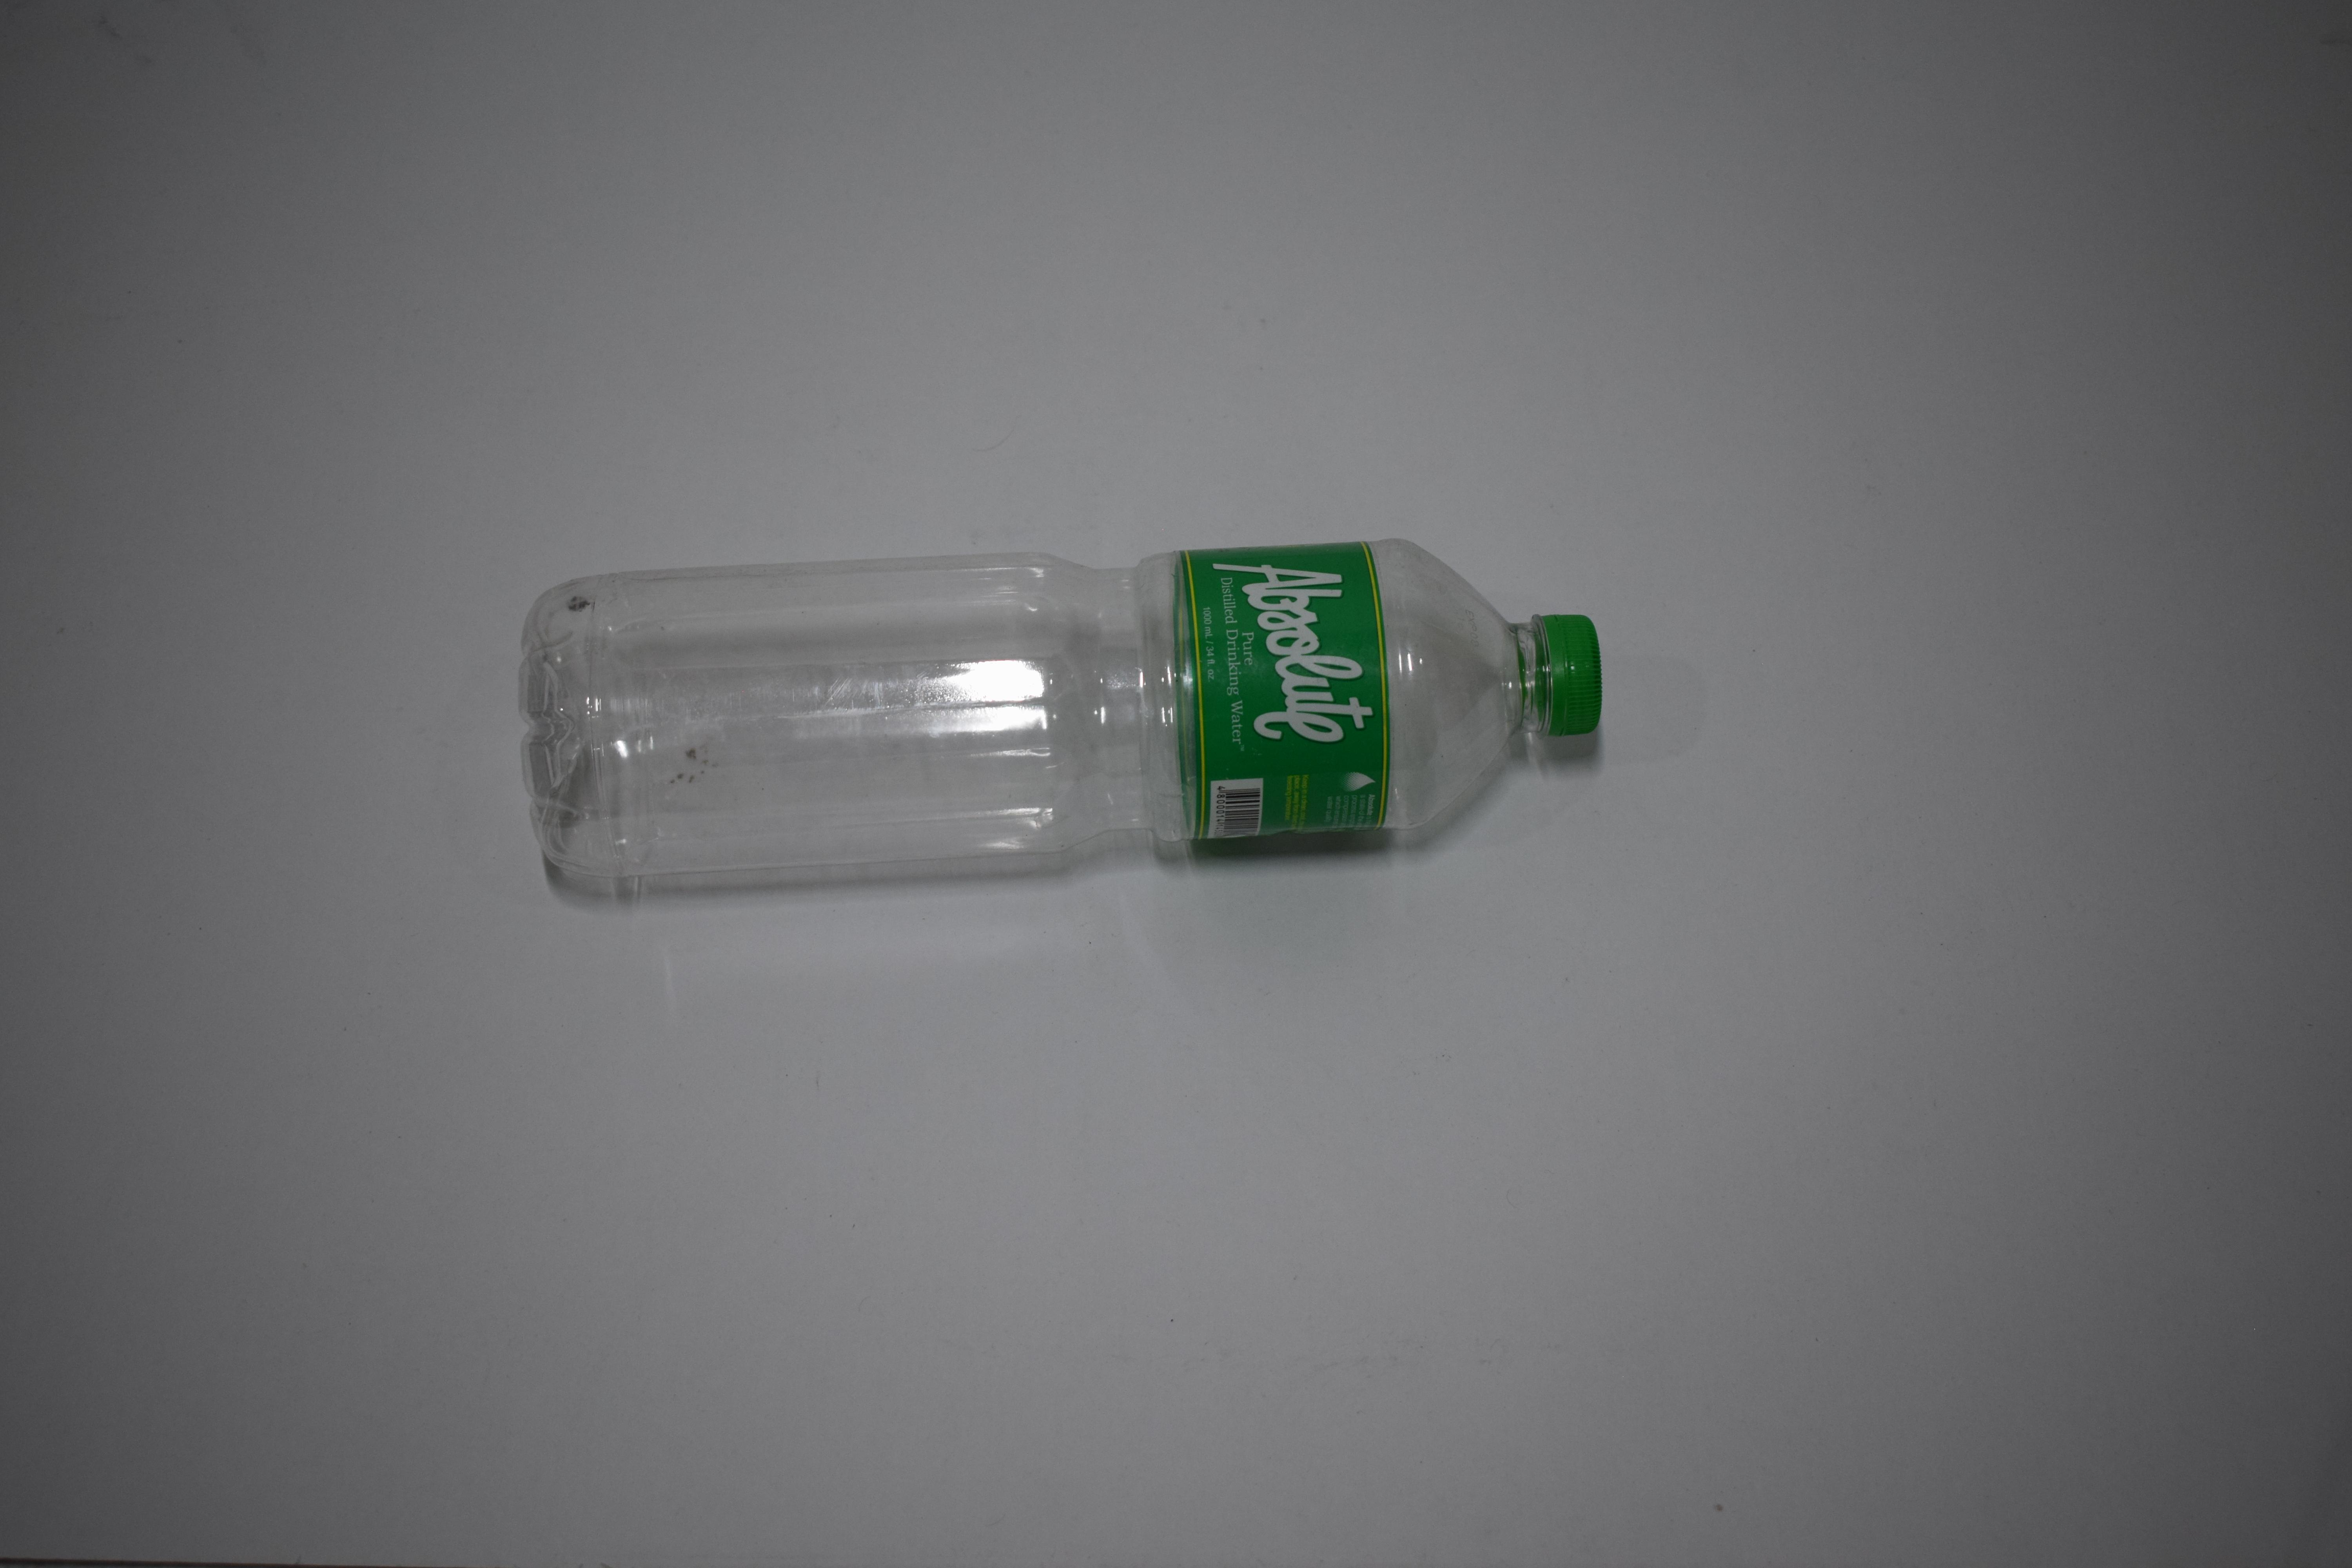bottle: (395, 450, 1493, 826)
